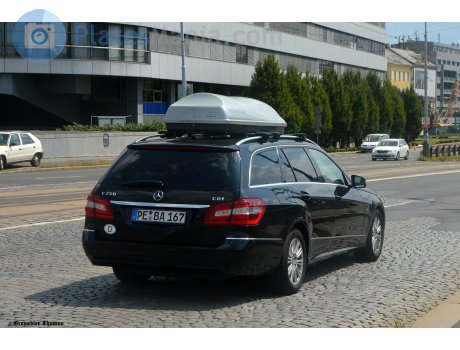License Plates: (135, 209, 184, 223)
